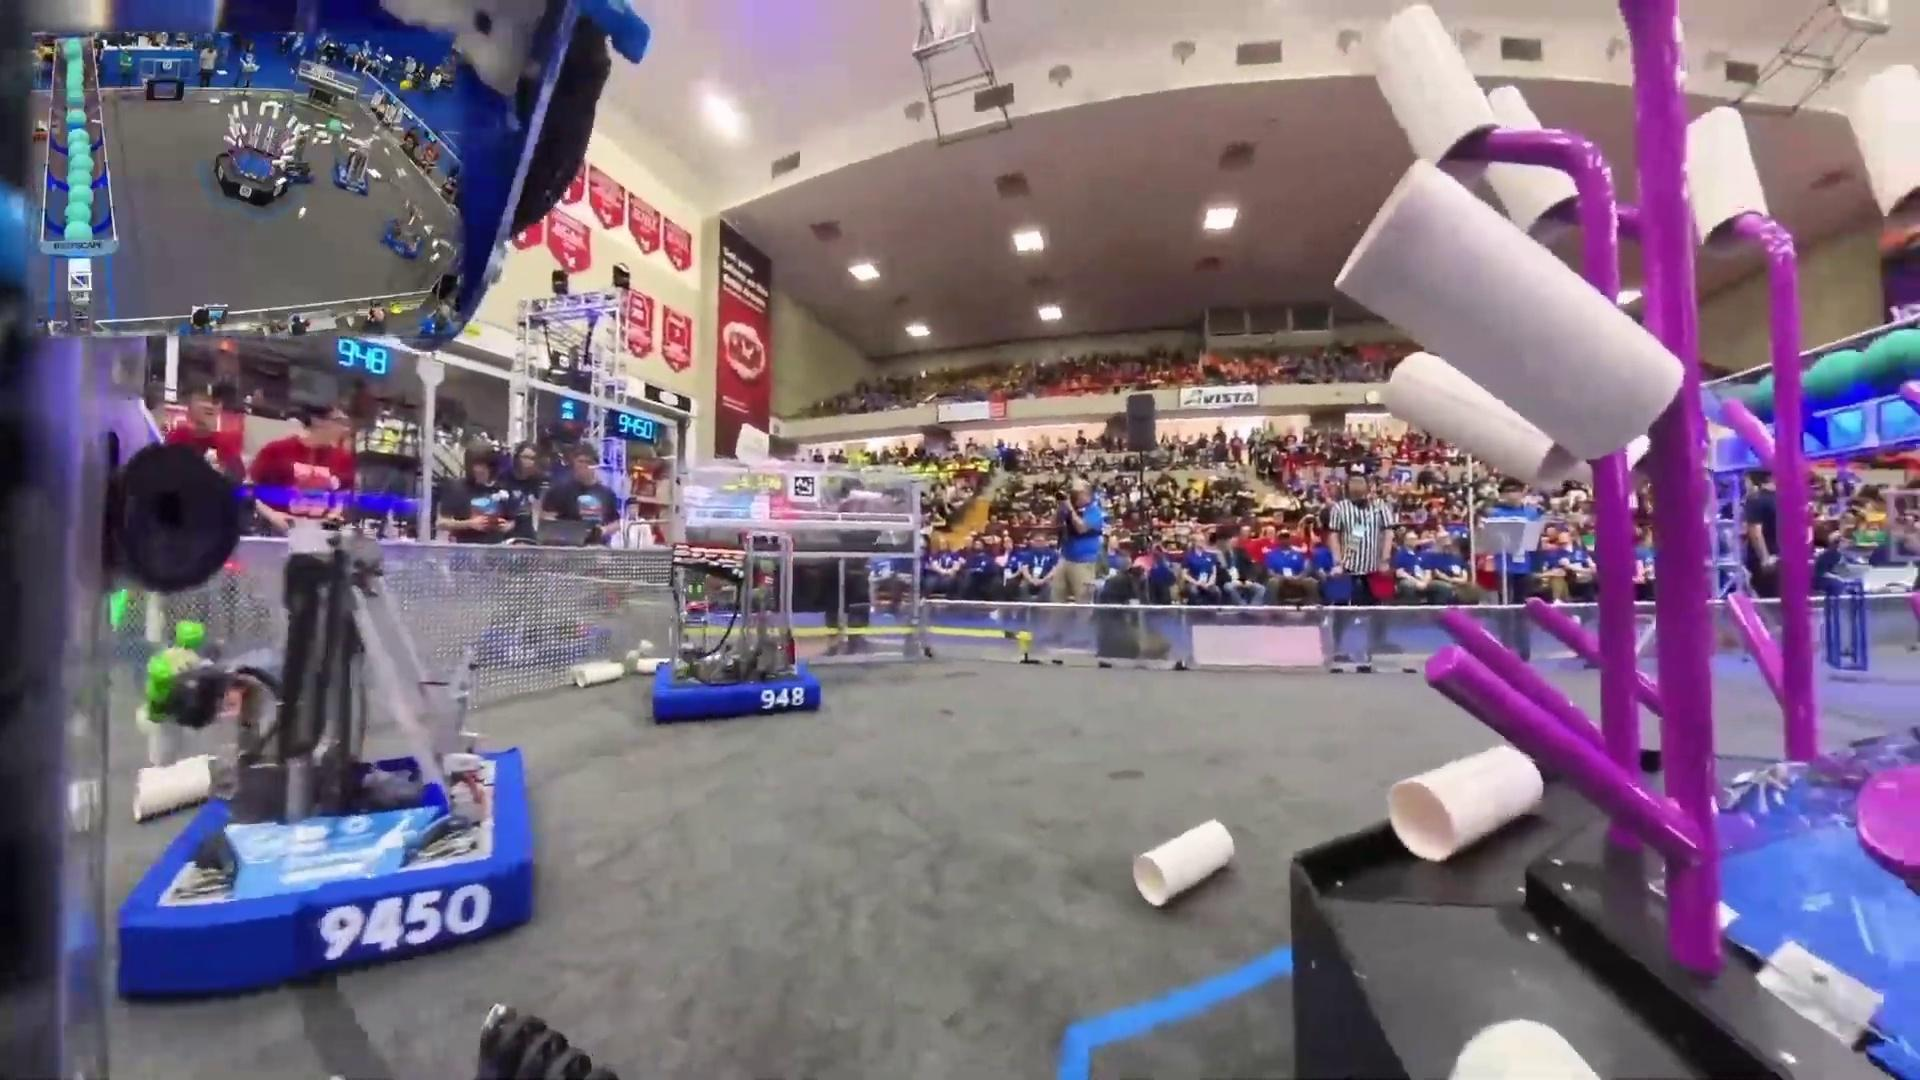robot: (115, 529, 534, 1006), (651, 530, 819, 724), (376, 199, 423, 262), (331, 142, 373, 198)
